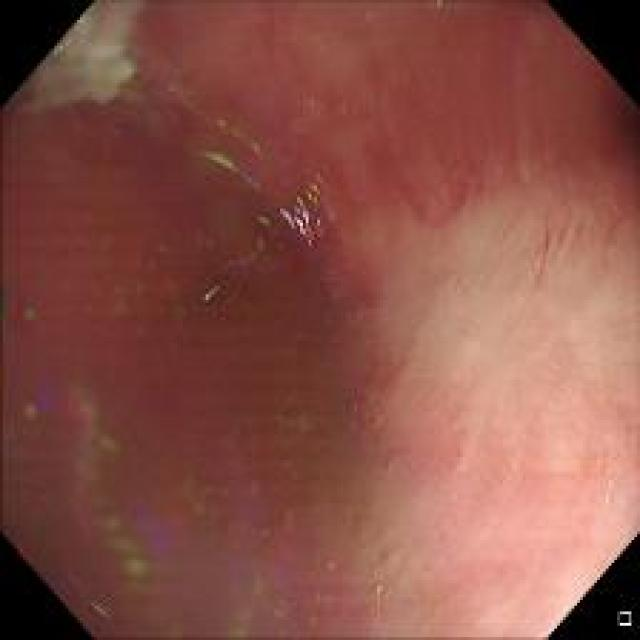bubbles: (352, 386, 384, 430), (555, 380, 571, 410), (320, 261, 339, 281), (129, 71, 144, 86), (366, 602, 380, 616), (392, 578, 406, 590)
color misalignment: (99, 461, 302, 635), (60, 379, 146, 589), (166, 76, 271, 192), (192, 212, 284, 311), (105, 244, 189, 338), (274, 171, 339, 248), (128, 56, 185, 111), (14, 539, 65, 598), (14, 375, 64, 432), (5, 282, 40, 321), (305, 548, 340, 574), (331, 524, 356, 545)
